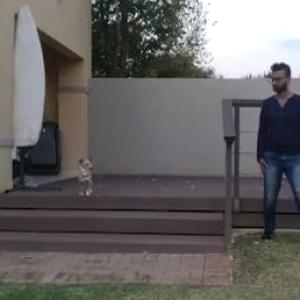follow: (254, 55, 299, 269)
